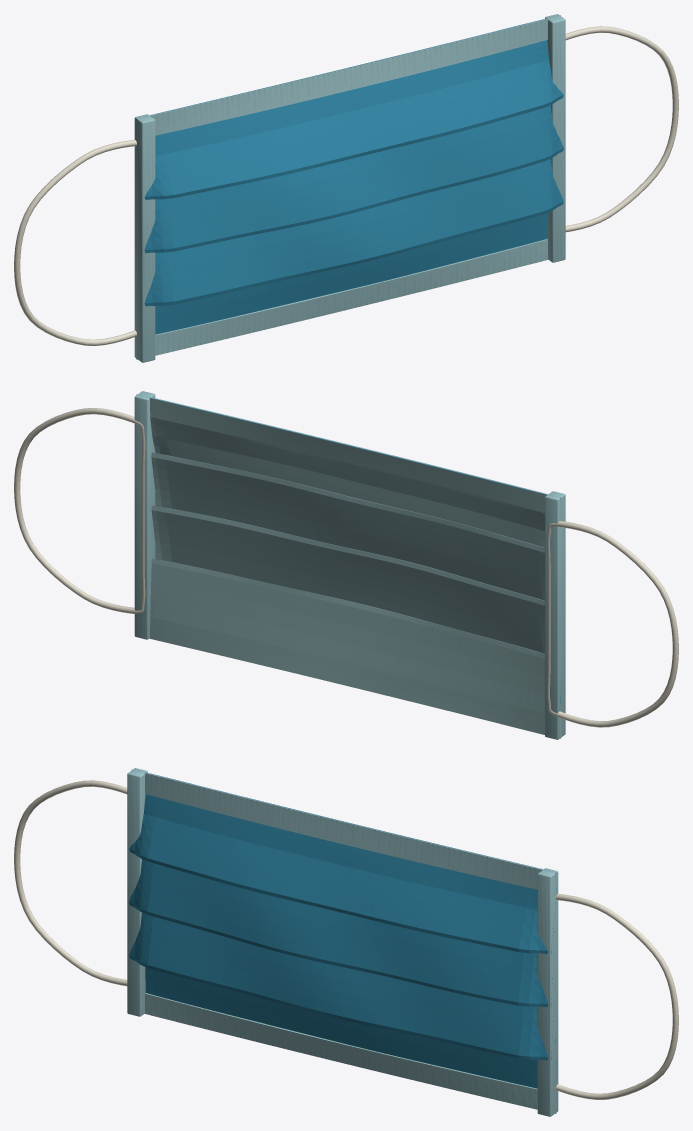
The model's file is pleated_face_mask_LOD0.glb.
3 renders of one model, top to bottom at view 1: azimuth 30°, elevation 25°; view 2: azimuth 150°, elevation 25°; view 3: azimuth 330°, elevation 25°, orthographic.
Visible parts, largest first — view 1: Pleated_panel, Top_nose_band, Bottom_hem, Left_side_weld, Right_side_weld, Left_ear_loop, Right_ear_loop; view 2: Pleated_panel, Left_side_weld, Right_side_weld, Left_ear_loop, Right_ear_loop, Top_nose_band; view 3: Pleated_panel, Top_nose_band, Bottom_hem, Right_side_weld, Left_side_weld, Right_ear_loop, Left_ear_loop.
Boxes of the visible parts, x1,y1,x2,y2 form: Pleated_panel: (136, 15, 563, 358); Top_nose_band: (136, 15, 560, 139); Bottom_hem: (136, 239, 547, 359); Left_side_weld: (134, 114, 155, 362); Right_side_weld: (545, 14, 565, 262); Left_ear_loop: (14, 140, 136, 345); Right_ear_loop: (565, 26, 678, 232); Pleated_panel: (136, 394, 560, 738); Left_side_weld: (545, 491, 565, 739); Right_side_weld: (134, 391, 155, 639); Left_ear_loop: (547, 521, 678, 727); Right_ear_loop: (14, 408, 145, 613); Top_nose_band: (137, 394, 561, 517); Pleated_panel: (129, 772, 556, 1112); Top_nose_band: (132, 769, 556, 893); Bottom_hem: (145, 993, 556, 1113); Right_side_weld: (537, 868, 558, 1116); Left_side_weld: (127, 768, 147, 1016); Right_ear_loop: (556, 894, 678, 1099); Left_ear_loop: (14, 780, 127, 986).
Size of the model in its own units: 0.2742 by 0.0951 by 0.0146.
Materials: 4 (4 with a texture image).
